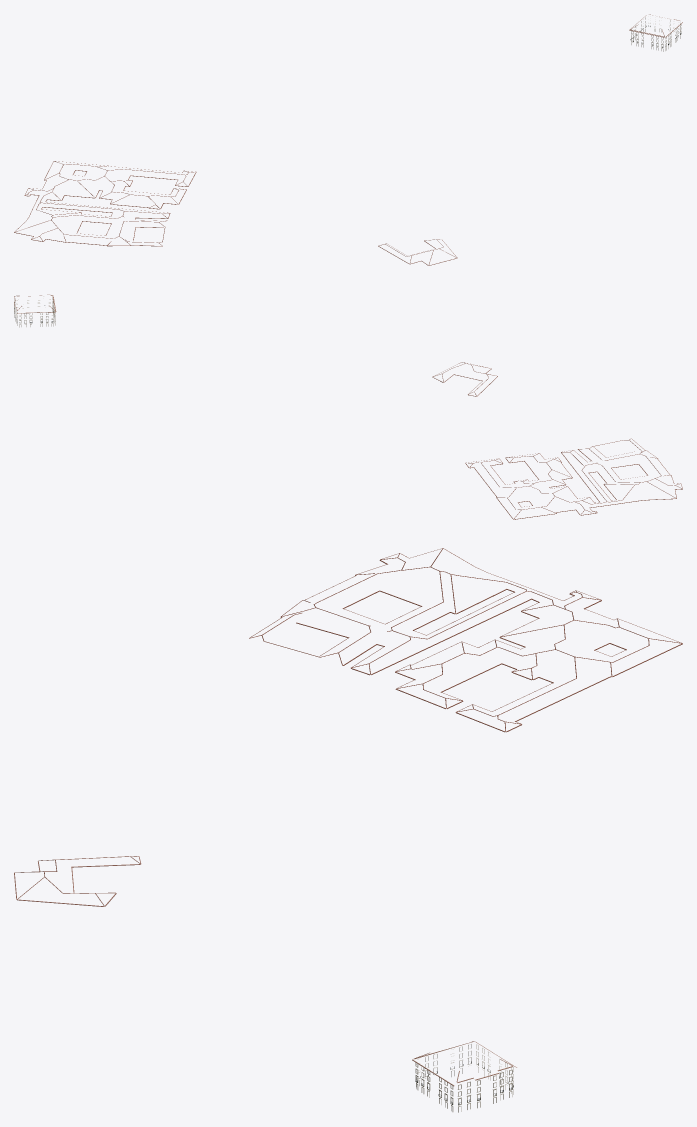
The picture shows the model from 3 angles, top to bottom: view 1: azimuth 30°, elevation 25°; view 2: azimuth 150°, elevation 25°; view 3: azimuth 270°, elevation 25°; orthographic projection. The views are drawn at different scales.
Parts seen in each view (by area): view 1: detail; view 2: detail; view 3: detail.
Boxes of the visible parts, bbox=[...] form: detail: bbox=[14, 14, 682, 265]; detail: bbox=[14, 294, 682, 519]; detail: bbox=[14, 548, 682, 1112].
Bounding box in the file's own units: 585 × 60.53 × 266.
